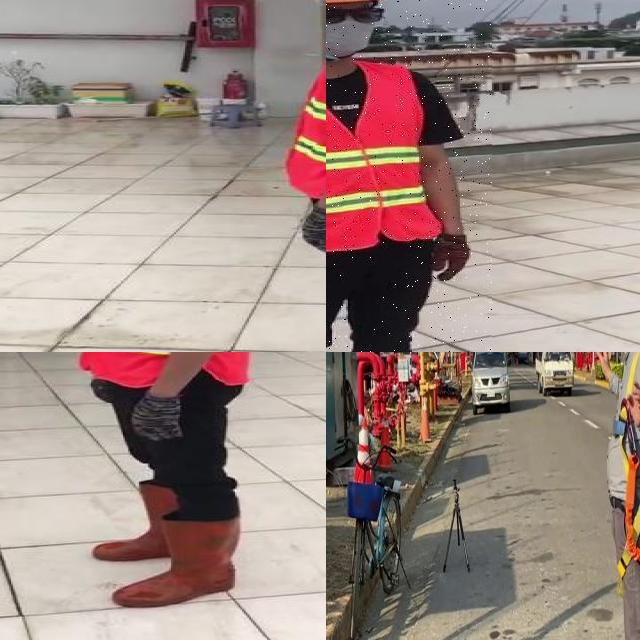Harness: (621, 409, 640, 578)
boots: (84, 472, 228, 564), (109, 513, 240, 606)
hand_glove: (128, 394, 196, 446), (301, 205, 326, 254)
person: (56, 352, 285, 615), (326, 0, 492, 352), (250, 0, 326, 352)
vest: (326, 63, 438, 251), (83, 352, 270, 391), (284, 31, 326, 202)
